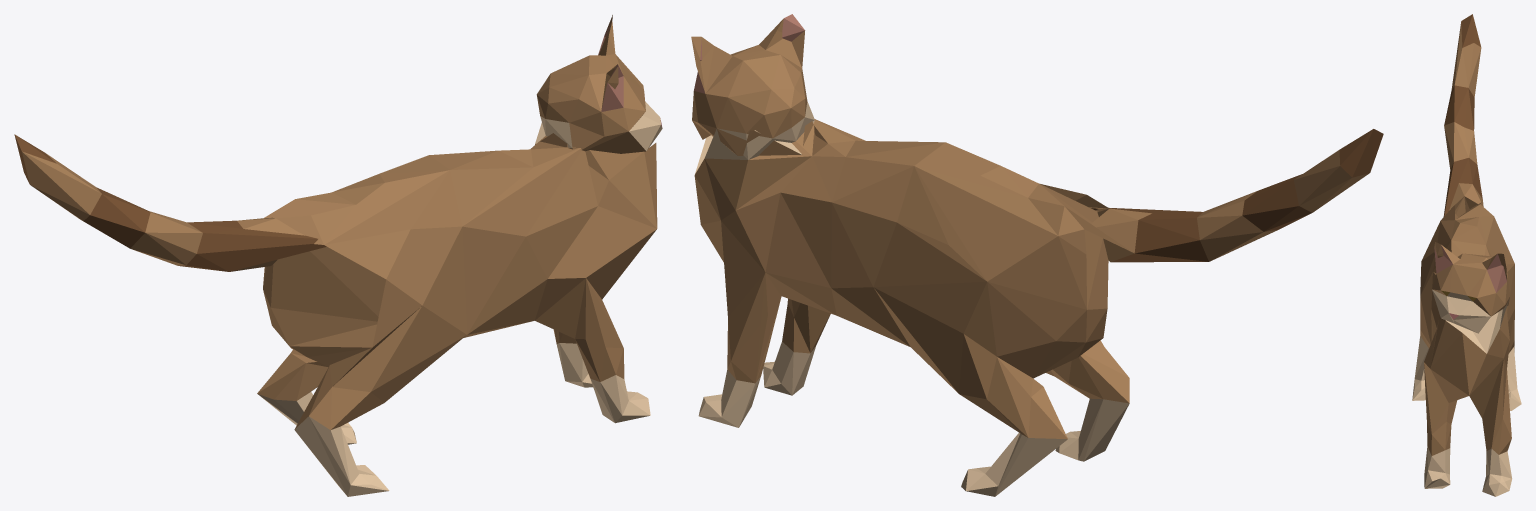
Rendered from cat_500.glb.
3 views of the same model, side by side, from view 1: azimuth 30°, elevation 25°; view 2: azimuth 150°, elevation 25°; view 3: azimuth 270°, elevation 25° (orthographic). The views are drawn at different scales.
Parts seen in each view (by area): view 1: cat_500; view 2: cat_500; view 3: cat_500.
Part boxes in pixels (x1=…): cat_500: x1=14, y1=15, x2=662, y2=496; cat_500: x1=691, y1=14, x2=1383, y2=496; cat_500: x1=1412, y1=14, x2=1521, y2=496.
Size of the model in its own units: 0.6534 by 0.396 by 0.1421.
